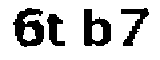6: (10, 3, 45, 51)
7: (117, 3, 154, 54)
b: (80, 6, 113, 54)
t: (46, 12, 70, 52)
